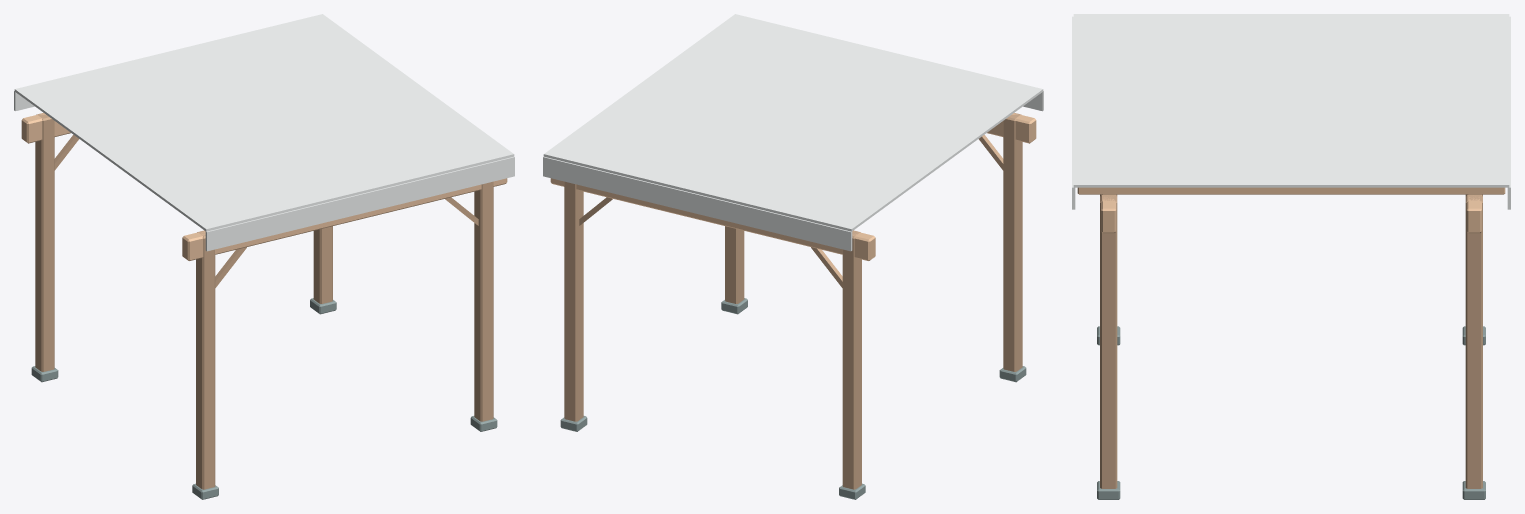
Rendered from pergola_timber.glb.
The picture shows the model from 3 angles, left to right: view 1: azimuth 30°, elevation 25°; view 2: azimuth 150°, elevation 25°; view 3: azimuth 270°, elevation 25°; orthographic projection. The views are drawn at different scales.
Visible parts, largest first — view 1: PergolaCanvas, PergolaFrame; view 2: PergolaCanvas, PergolaFrame; view 3: PergolaCanvas, PergolaFrame.
Part boxes in pixels (x1,y1,x2,y2): PergolaCanvas: [14, 14, 514, 251]; PergolaFrame: [21, 113, 507, 499]; PergolaCanvas: [543, 14, 1043, 251]; PergolaFrame: [550, 113, 1036, 499]; PergolaCanvas: [1072, 14, 1510, 209]; PergolaFrame: [1077, 187, 1505, 499].
Size of the model in its own units: 1.96 by 1.65 by 2.05.
